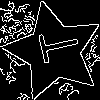T: (28, 26, 81, 67)
